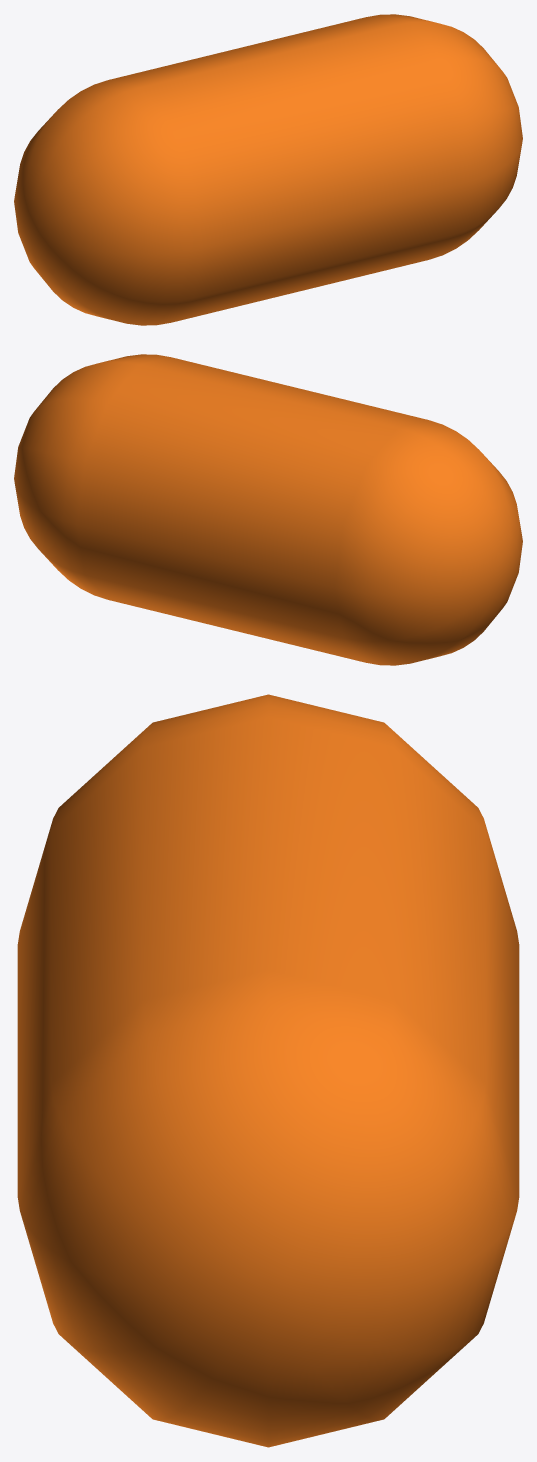
3 renders of one model, top to bottom at view 1: azimuth 30°, elevation 25°; view 2: azimuth 150°, elevation 25°; view 3: azimuth 270°, elevation 25°, orthographic. The views are drawn at different scales.
Parts seen in each view (by area): view 1: gripper_frame; view 2: gripper_frame; view 3: gripper_frame.
Boxes of the visible parts, x1,y1,x2,y2 form: gripper_frame: [14, 14, 522, 325]; gripper_frame: [14, 354, 522, 665]; gripper_frame: [17, 694, 519, 1447].
Size of the model in its own units: 0.0215 by 0.00982 by 0.00982.
